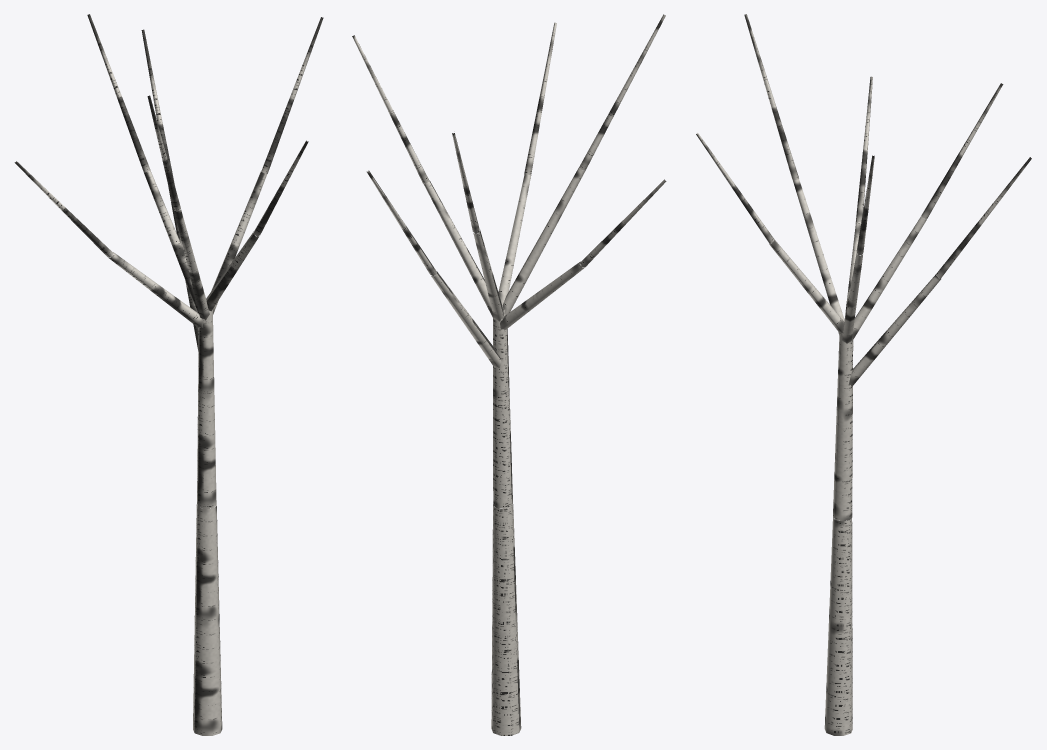
File: SM_Art_Veg_Birch_0_BirchBark.gltf
3 renders of one model, left to right at view 1: azimuth 30°, elevation 25°; view 2: azimuth 150°, elevation 25°; view 3: azimuth 270°, elevation 25°, orthographic. The views are drawn at different scales.
Parts seen in each view (by area): view 1: SM_Art_Veg_Birch_0_BirchBark; view 2: SM_Art_Veg_Birch_0_BirchBark; view 3: SM_Art_Veg_Birch_0_BirchBark.
Boxes of the visible parts, x1,y1,x2,y2 form: SM_Art_Veg_Birch_0_BirchBark: [14, 14, 323, 735]; SM_Art_Veg_Birch_0_BirchBark: [352, 14, 666, 735]; SM_Art_Veg_Birch_0_BirchBark: [696, 14, 1031, 735].
Size of the model in its own units: 3.5 by 7.53 by 3.45.
Materials: 1 (1 with a texture image).
